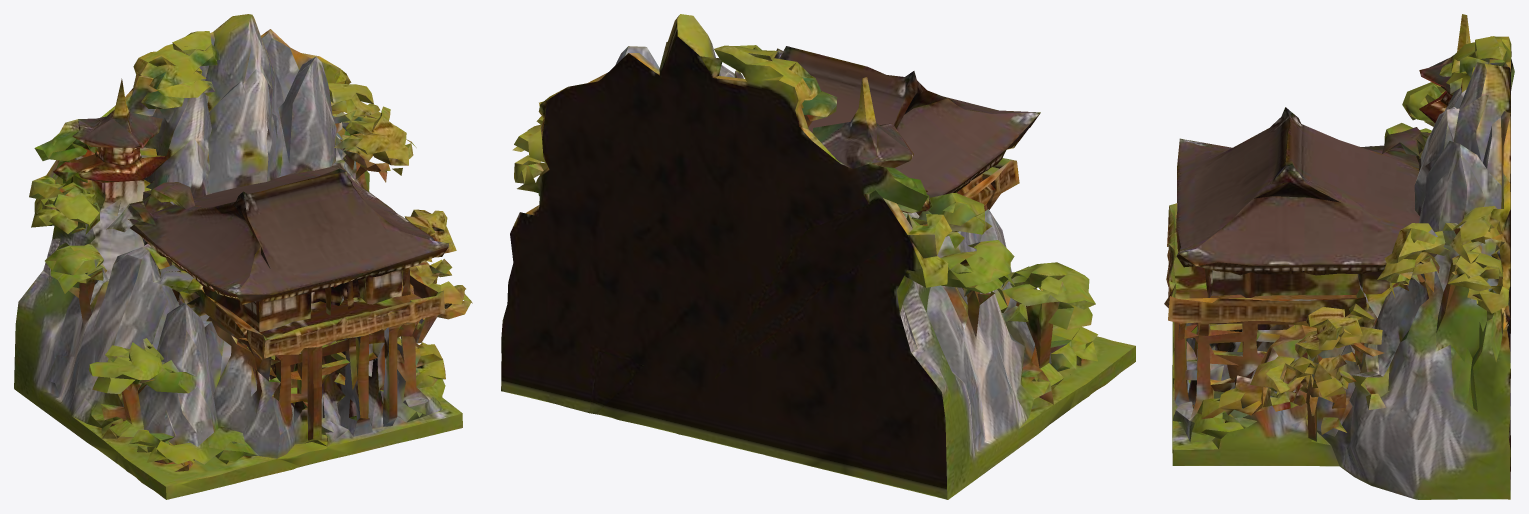
The model's file is ishiyamadera.glb.
3 renders of one model, left to right at view 1: azimuth 30°, elevation 25°; view 2: azimuth 150°, elevation 25°; view 3: azimuth 270°, elevation 25°, orthographic. The views are drawn at different scales.
Visible parts, largest first — view 1: logan-textured.obj; view 2: logan-textured.obj; view 3: logan-textured.obj.
Part boxes in pixels (<box>): logan-textured.obj: <box>14,14,472,499</box>; logan-textured.obj: <box>501,14,1135,499</box>; logan-textured.obj: <box>1164,14,1514,499</box>.
Bounding box in the file's own units: 1 × 0.8244 × 0.7187.
Materials: 1 (1 with a texture image).
